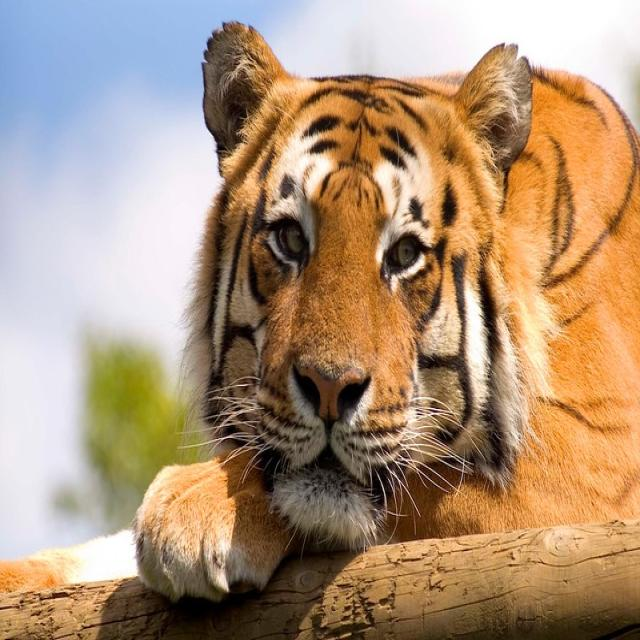Tiger: (122, 2, 625, 618)
